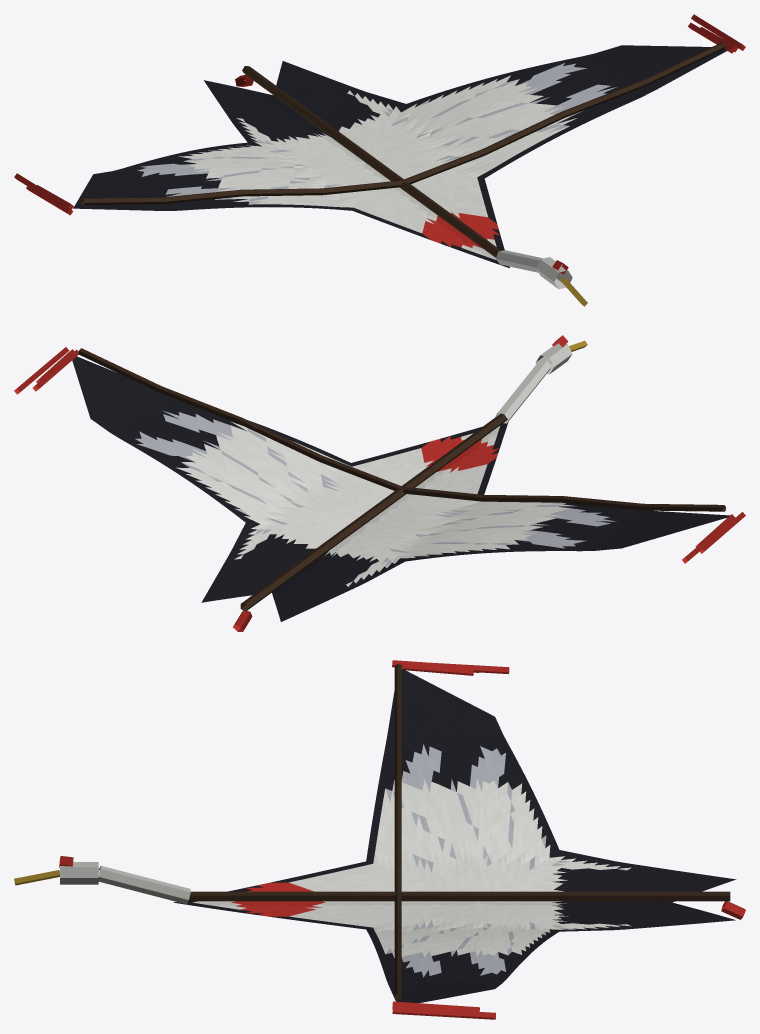
File: kite_crane.glb
The picture shows the model from 3 angles, top to bottom: view 1: azimuth 30°, elevation 25°; view 2: azimuth 150°, elevation 25°; view 3: azimuth 270°, elevation 25°; orthographic projection. The views are drawn at different scales.
Visible parts, largest first — view 1: kite_crane; view 2: kite_crane; view 3: kite_crane.
Boxes of the visible parts, box(x1,y1,x2,y2) form: kite_crane: box(14, 14, 745, 306); kite_crane: box(14, 335, 745, 631); kite_crane: box(14, 660, 745, 1019).
Size of the model in its own units: 2.57 by 0.3099 by 2.27.
